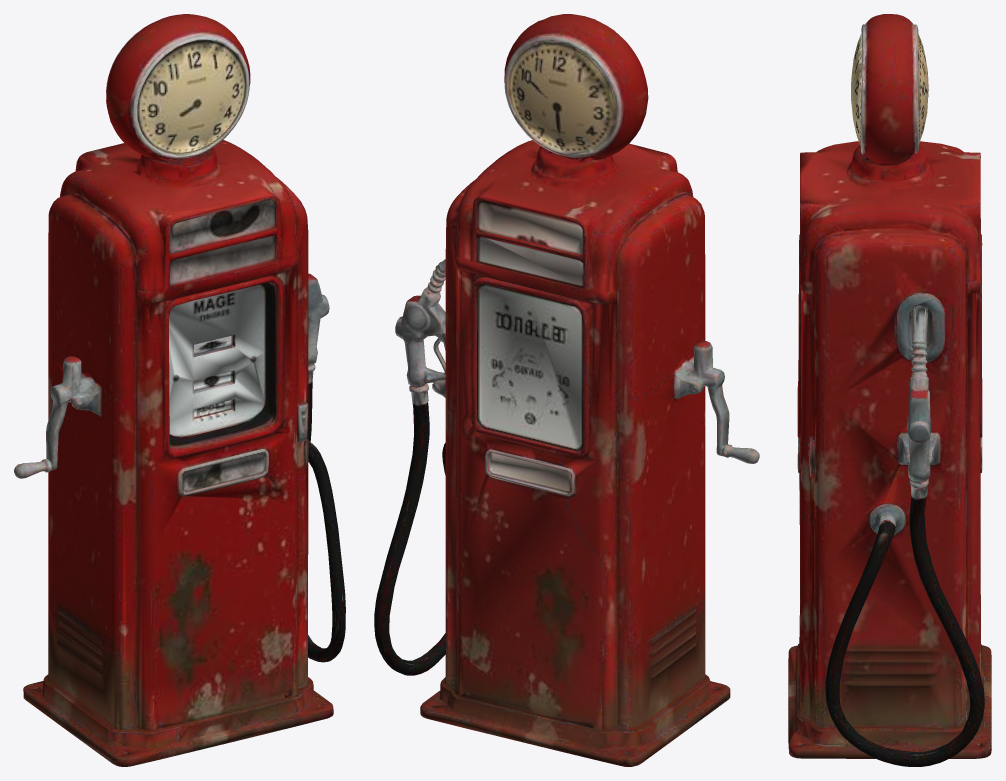
Rendered from pump.glb.
3 views of the same model, side by side, from view 1: azimuth 30°, elevation 25°; view 2: azimuth 150°, elevation 25°; view 3: azimuth 270°, elevation 25° (orthographic).
Bounding box in the file's own units: 0.969 × 1.9 × 0.5124.
Materials: 1 (1 with a texture image).
